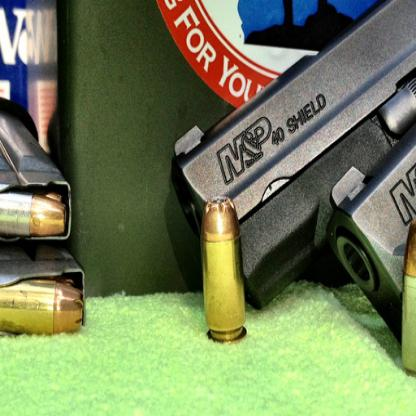gun: (172, 0, 416, 311)
